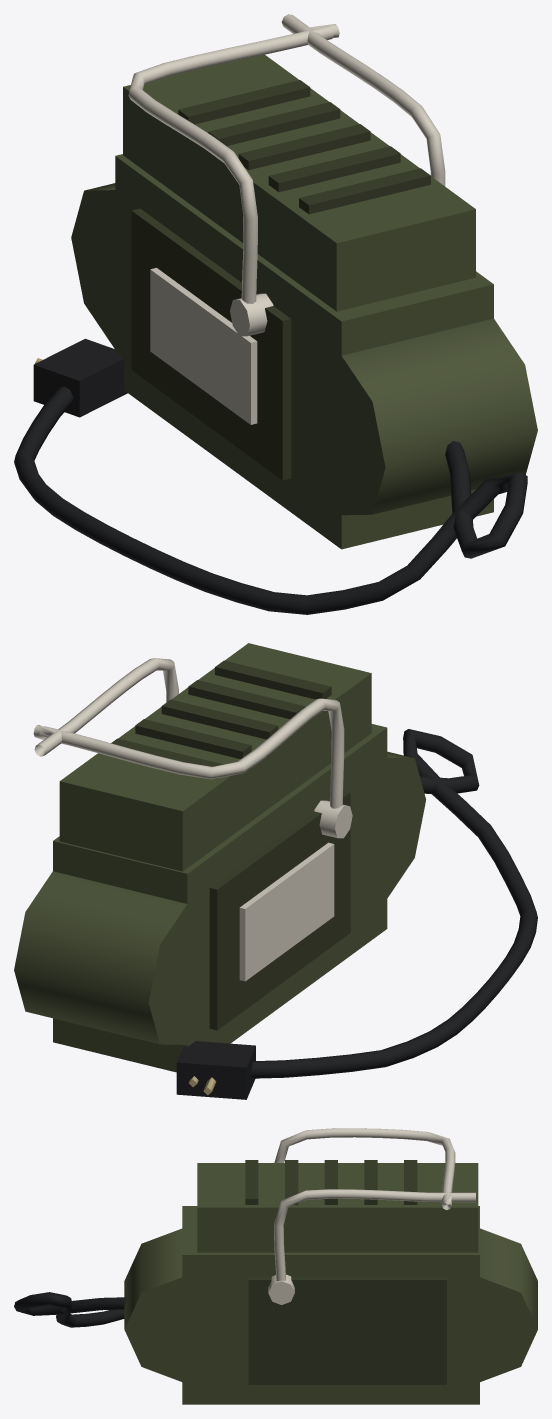
Rendered from m57-clicker.glb.
The picture shows the model from 3 angles, top to bottom: view 1: azimuth 30°, elevation 25°; view 2: azimuth 150°, elevation 25°; view 3: azimuth 270°, elevation 25°; orthographic projection. The views are drawn at different scales.
Parts seen in each view (by area): view 1: Mesh_SqueezeLever, Mesh_MainBody, Mesh_BodyFrontBumper, Mesh_PigtailWire, Mesh_SidePanelL, Mesh_SafetyBail, Mesh_InstructionLabel, Mesh_BodyBackBumper, Mesh_PlugBody, Mesh_LeverRib_1, Mesh_LeverRib_2, Mesh_LeverRib_0 (+3 smaller); view 2: Mesh_SqueezeLever, Mesh_BodyBackBumper, Mesh_MainBody, Mesh_SidePanelL, Mesh_PigtailWire, Mesh_SafetyBail, Mesh_InstructionLabel, Mesh_BodyFrontBumper, Mesh_PlugBody, Mesh_LeverRib_2, Mesh_LeverRib_-1, Mesh_LeverRib_0 (+3 smaller); view 3: Mesh_MainBody, Mesh_SidePanelR, Mesh_SqueezeLever, Mesh_BodyFrontBumper, Mesh_BodyBackBumper, Mesh_SafetyBail, Mesh_PigtailWire, Mesh_LeverRib_2, Mesh_BailPivotR, Mesh_LeverRib_1, Mesh_LeverRib_0, Mesh_LeverRib_-1 (+1 smaller).
Part boxes in pixels (x1=…): Mesh_SqueezeLever: x1=123, y1=54, x2=475, y2=311; Mesh_MainBody: x1=115, y1=154, x2=493, y2=549; Mesh_BodyFrontBumper: x1=297, y1=318, x2=537, y2=515; Mesh_PigtailWire: x1=14, y1=386, x2=527, y2=614; Mesh_SidePanelL: x1=131, y1=208, x2=291, y2=480; Mesh_SafetyBail: x1=128, y1=14, x2=445, y2=303; Mesh_InstructionLabel: x1=150, y1=267, x2=257, y2=424; Mesh_BodyBackBumper: x1=71, y1=183, x2=131, y2=349; Mesh_PlugBody: x1=33, y1=338, x2=127, y2=417; Mesh_LeverRib_1: x1=268, y1=146, x2=400, y2=192; Mesh_LeverRib_2: x1=299, y1=168, x2=430, y2=214; Mesh_LeverRib_0: x1=238, y1=124, x2=370, y2=170; Mesh_SqueezeLever: x1=59, y1=643, x2=371, y2=871; Mesh_BodyBackBumper: x1=14, y1=871, x2=209, y2=1044; Mesh_MainBody: x1=53, y1=724, x2=387, y2=1072; Mesh_SidePanelL: x1=209, y1=790, x2=350, y2=1030; Mesh_PigtailWire: x1=251, y1=729, x2=537, y2=1078; Mesh_SafetyBail: x1=33, y1=658, x2=344, y2=808; Mesh_InstructionLabel: x1=239, y1=842, x2=334, y2=981; Mesh_BodyFrontBumper: x1=358, y1=751, x2=425, y2=897; Mesh_PlugBody: x1=176, y1=1041, x2=255, y2=1099; Mesh_LeverRib_2: x1=215, y1=660, x2=331, y2=699; Mesh_LeverRib_-1: x1=135, y1=719, x2=251, y2=759; Mesh_LeverRib_0: x1=161, y1=699, x2=278, y2=739; Mesh_MainBody: x1=182, y1=1206, x2=479, y2=1404; Mesh_SidePanelR: x1=248, y1=1277, x2=446, y2=1384; Mesh_SqueezeLever: x1=197, y1=1163, x2=478, y2=1252; Mesh_BodyFrontBumper: x1=124, y1=1228, x2=239, y2=1382; Mesh_BodyBackBumper: x1=447, y1=1228, x2=537, y2=1381; Mesh_SafetyBail: x1=274, y1=1128, x2=475, y2=1281; Mesh_PigtailWire: x1=14, y1=1292, x2=126, y2=1327; Mesh_LeverRib_2: x1=245, y1=1160, x2=258, y2=1204; Mesh_BailPivotR: x1=268, y1=1274, x2=294, y2=1304; Mesh_LeverRib_1: x1=285, y1=1160, x2=298, y2=1204; Mesh_LeverRib_0: x1=324, y1=1160, x2=337, y2=1204; Mesh_LeverRib_-1: x1=364, y1=1160, x2=377, y2=1204.
Bounding box in the file's own units: 0.0879 × 0.0747 × 0.1584.
Materials: 4 (4 with a texture image).
